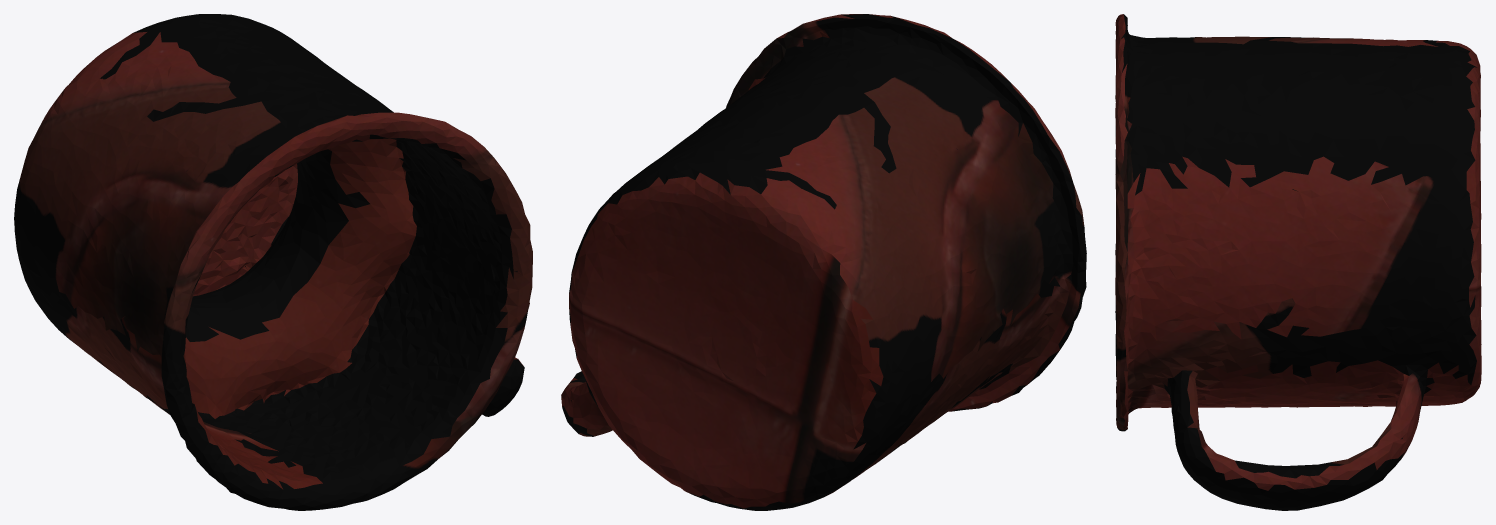
3 views of the same model, side by side, from view 1: azimuth 30°, elevation 25°; view 2: azimuth 150°, elevation 25°; view 3: azimuth 270°, elevation 25° (orthographic). The views are drawn at different scales.
Bounding box in the file's own units: 0.1051 × 0.0933 × 0.0813.
